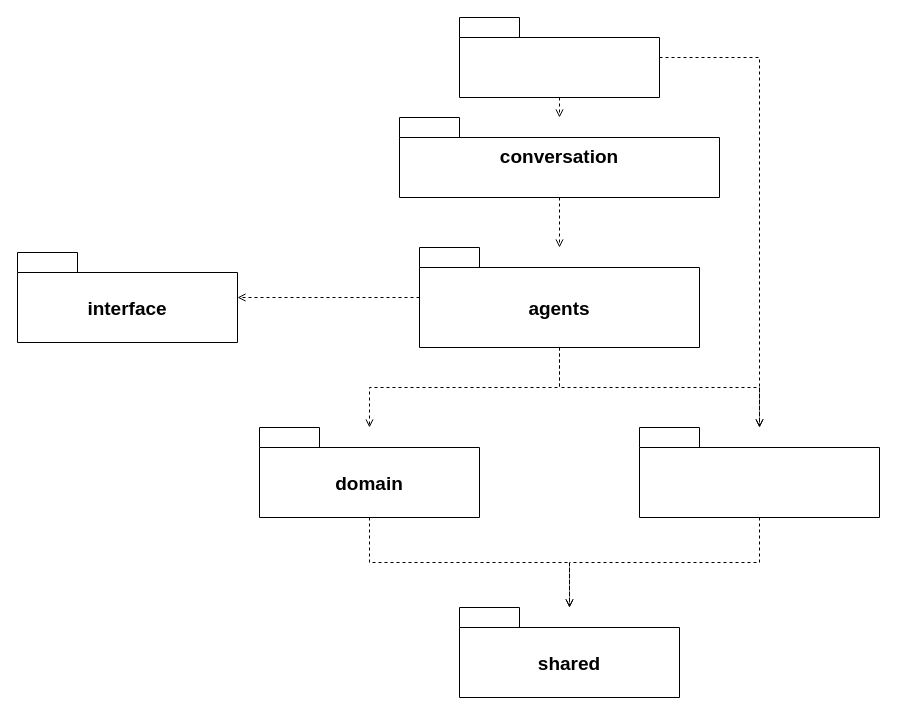
Some shapes in this 897 by 715 pixel diagram are drawn without their labels. Here are the shapes that lost their labels. From the top down, the centre of each, then its label:
At (559,57): "app".
At (759,472): "infrastructure".
